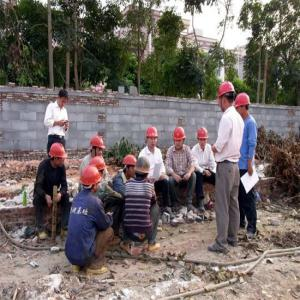none: (58, 88, 70, 111)
red: (217, 81, 236, 113), (82, 166, 101, 195), (49, 142, 68, 169), (235, 92, 252, 119), (89, 134, 106, 159), (88, 155, 105, 180), (172, 126, 188, 151), (122, 153, 137, 178), (146, 127, 159, 151), (197, 127, 209, 149)
yellow: (134, 155, 151, 180)
